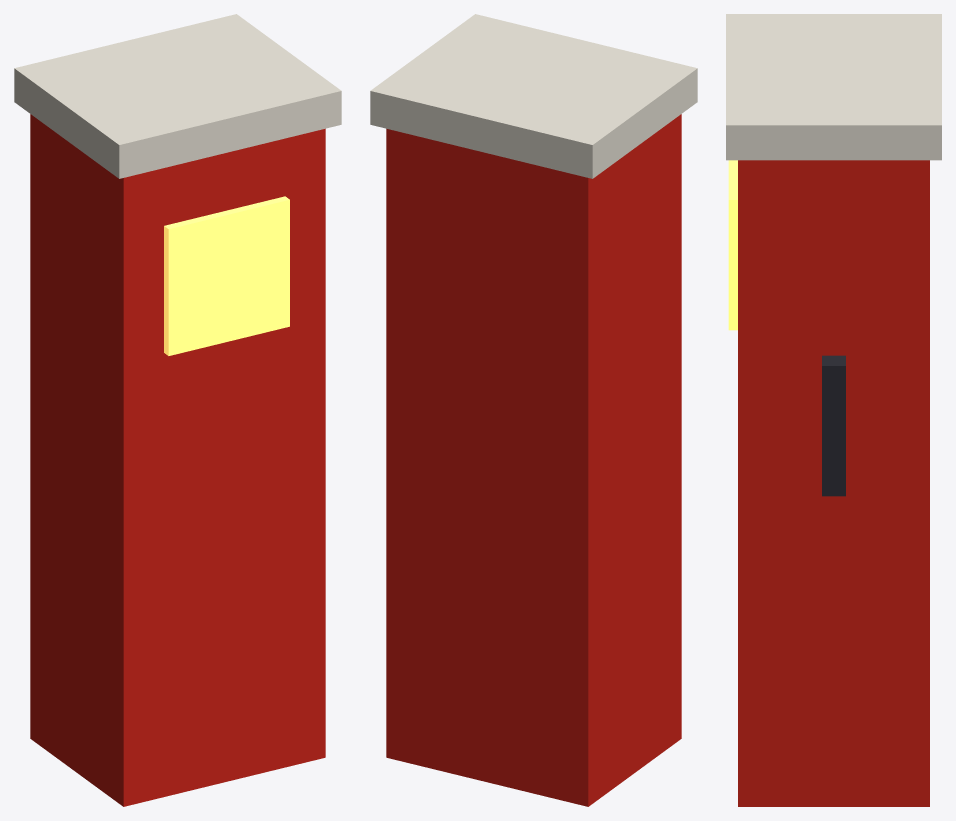
The model's file is garage_gas_pump.glb.
3 views of the same model, side by side, from view 1: azimuth 30°, elevation 25°; view 2: azimuth 150°, elevation 25°; view 3: azimuth 270°, elevation 25° (orthographic). The views are drawn at different scales.
Visible parts, largest first — view 1: gas_pump; view 2: gas_pump; view 3: gas_pump.
Boxes of the visible parts, <box> form: gas_pump: <box>14,14,341,806</box>; gas_pump: <box>370,14,697,806</box>; gas_pump: <box>726,14,941,806</box>.
Size of the model in its own units: 0.6 by 1.58 by 0.45.
